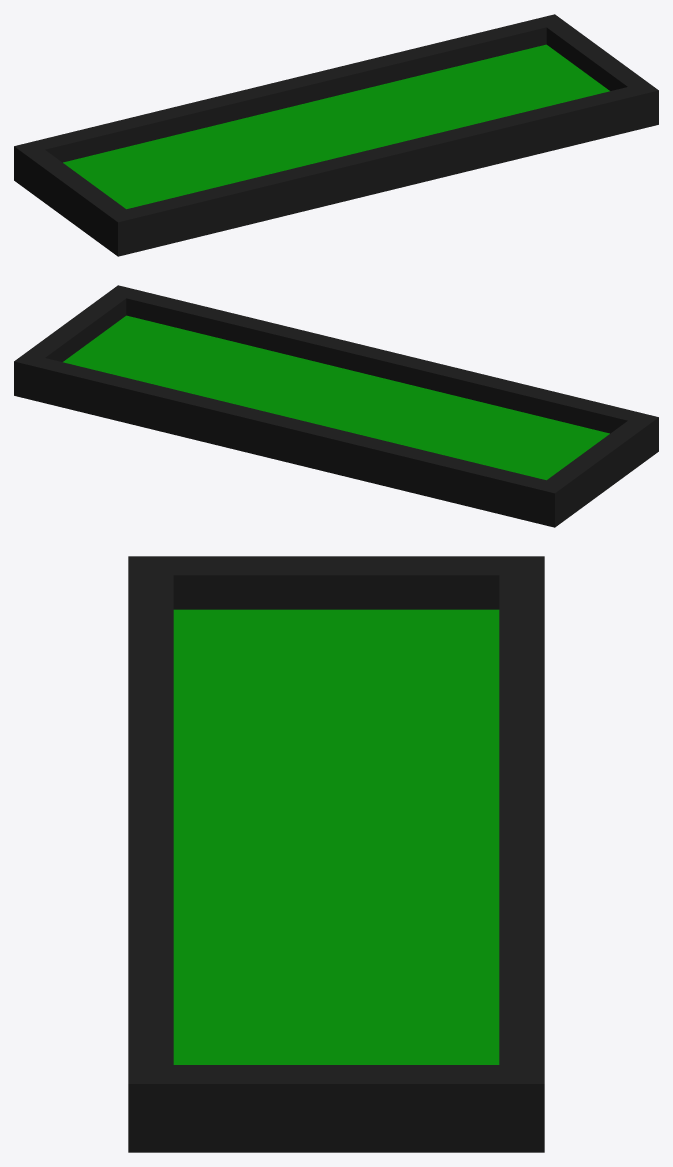
File: Garden_Box_2.fbx
3 renders of one model, top to bottom at view 1: azimuth 30°, elevation 25°; view 2: azimuth 150°, elevation 25°; view 3: azimuth 270°, elevation 25°, orthographic. The views are drawn at different scales.
Parts seen in each view (by area): view 1: Garden_Box_B; view 2: Garden_Box_B; view 3: Garden_Box_B.
Boxes of the visible parts, bbox=[...] form: Garden_Box_B: bbox=[14, 14, 658, 256]; Garden_Box_B: bbox=[14, 285, 658, 527]; Garden_Box_B: bbox=[128, 556, 544, 1152].
Bounding box in the file's own units: 128 × 7.75 × 42.63.
